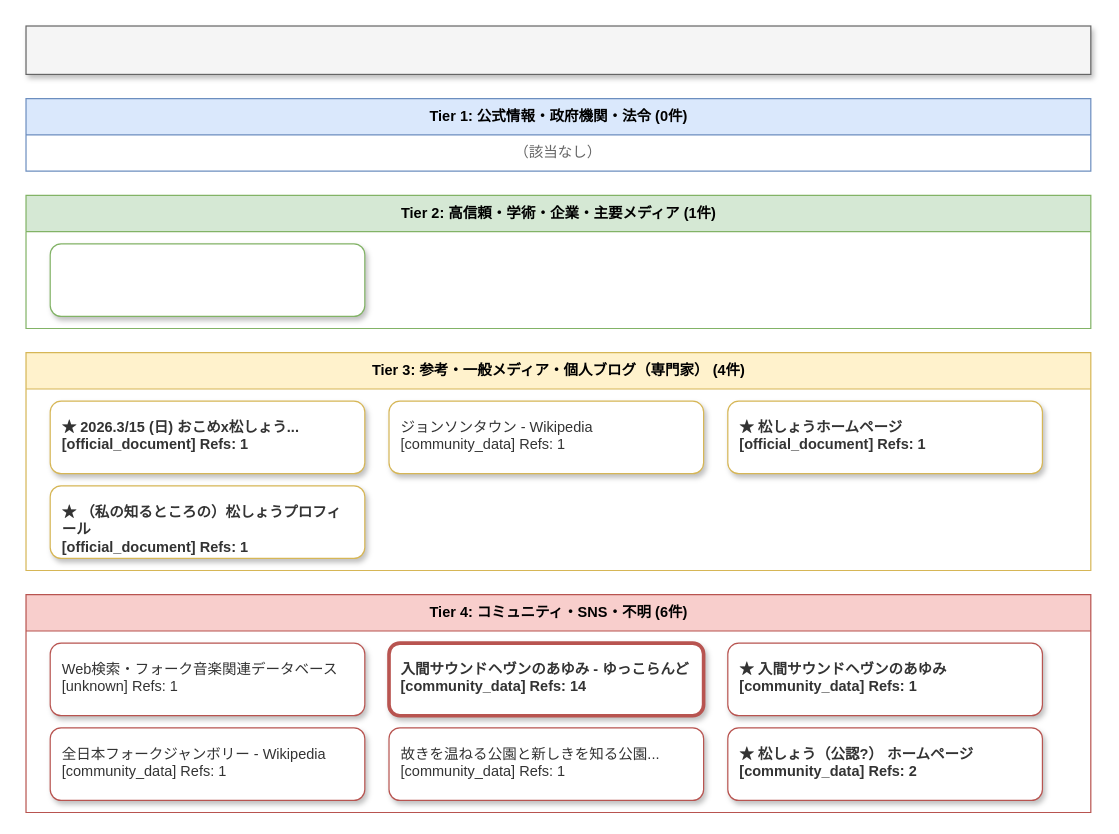
Some shapes in this 1119 by 834 pixel diagram are drawn without their labels. Each missing label, with the centre of its shape:
"1960年代後半の学園闘争を考える [academic_paper] Refs: 1" goes at point (208, 281).
"情報源 信頼性分布" goes at point (559, 51).
